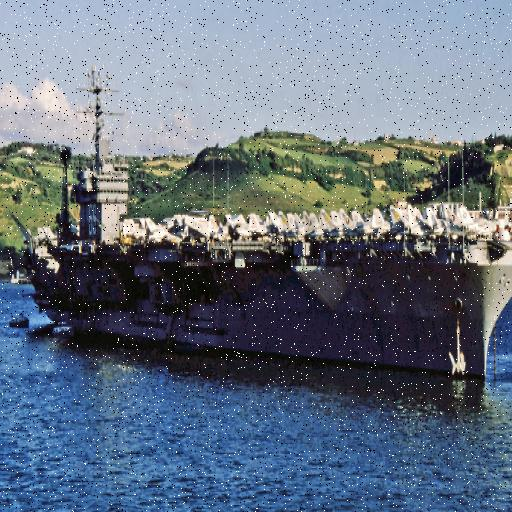Portanaves: (12, 56, 512, 387)
